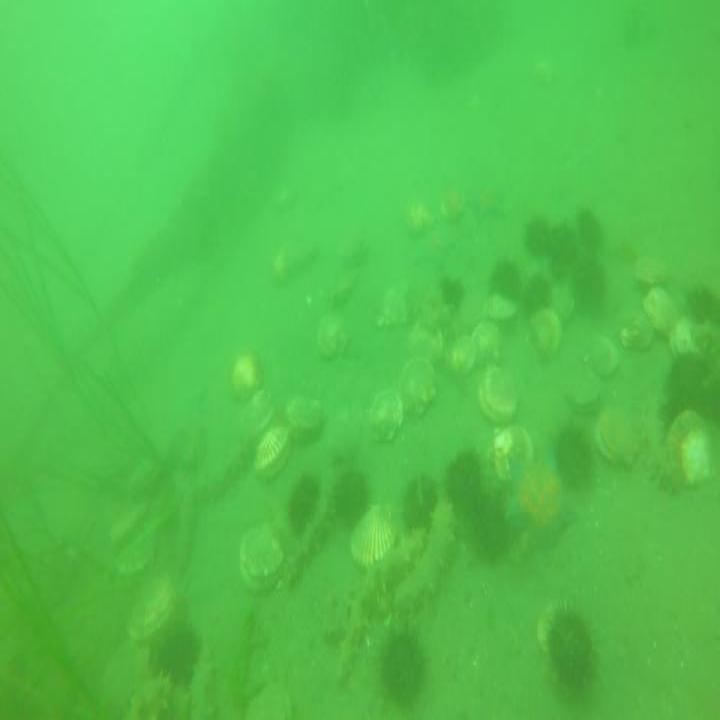echinus: (372, 617, 428, 715), (142, 612, 203, 694), (462, 476, 515, 570), (546, 604, 594, 698), (547, 414, 597, 496), (663, 348, 712, 426), (441, 443, 485, 519), (328, 464, 371, 535), (282, 469, 322, 542), (571, 250, 609, 316), (401, 469, 438, 530), (544, 217, 581, 277), (679, 277, 720, 327), (523, 210, 557, 268), (486, 247, 521, 301), (570, 201, 604, 251), (520, 265, 550, 315)
holothurian: (395, 492, 456, 612), (333, 567, 379, 688), (282, 496, 336, 594), (194, 428, 258, 510), (167, 475, 197, 576), (119, 668, 175, 720)
scallop: (662, 402, 717, 498), (122, 576, 179, 649), (390, 350, 441, 430), (596, 402, 649, 471), (237, 516, 285, 590), (490, 420, 536, 494), (252, 414, 297, 489), (477, 357, 521, 432), (225, 342, 270, 415), (350, 501, 397, 569), (361, 388, 403, 452), (110, 538, 160, 588), (284, 393, 328, 448), (528, 306, 565, 368), (313, 308, 352, 364), (582, 329, 622, 382), (671, 307, 710, 361), (645, 286, 681, 343), (535, 592, 565, 656), (447, 329, 481, 384), (376, 278, 410, 332), (470, 318, 503, 364), (631, 249, 672, 286), (403, 190, 432, 242), (547, 276, 573, 332), (437, 183, 468, 229), (477, 290, 516, 322)
starfish: (503, 450, 574, 556)
